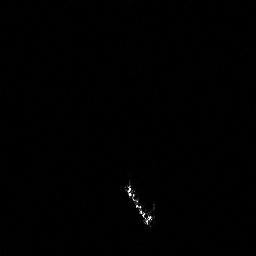ship: (120, 179, 156, 229)
